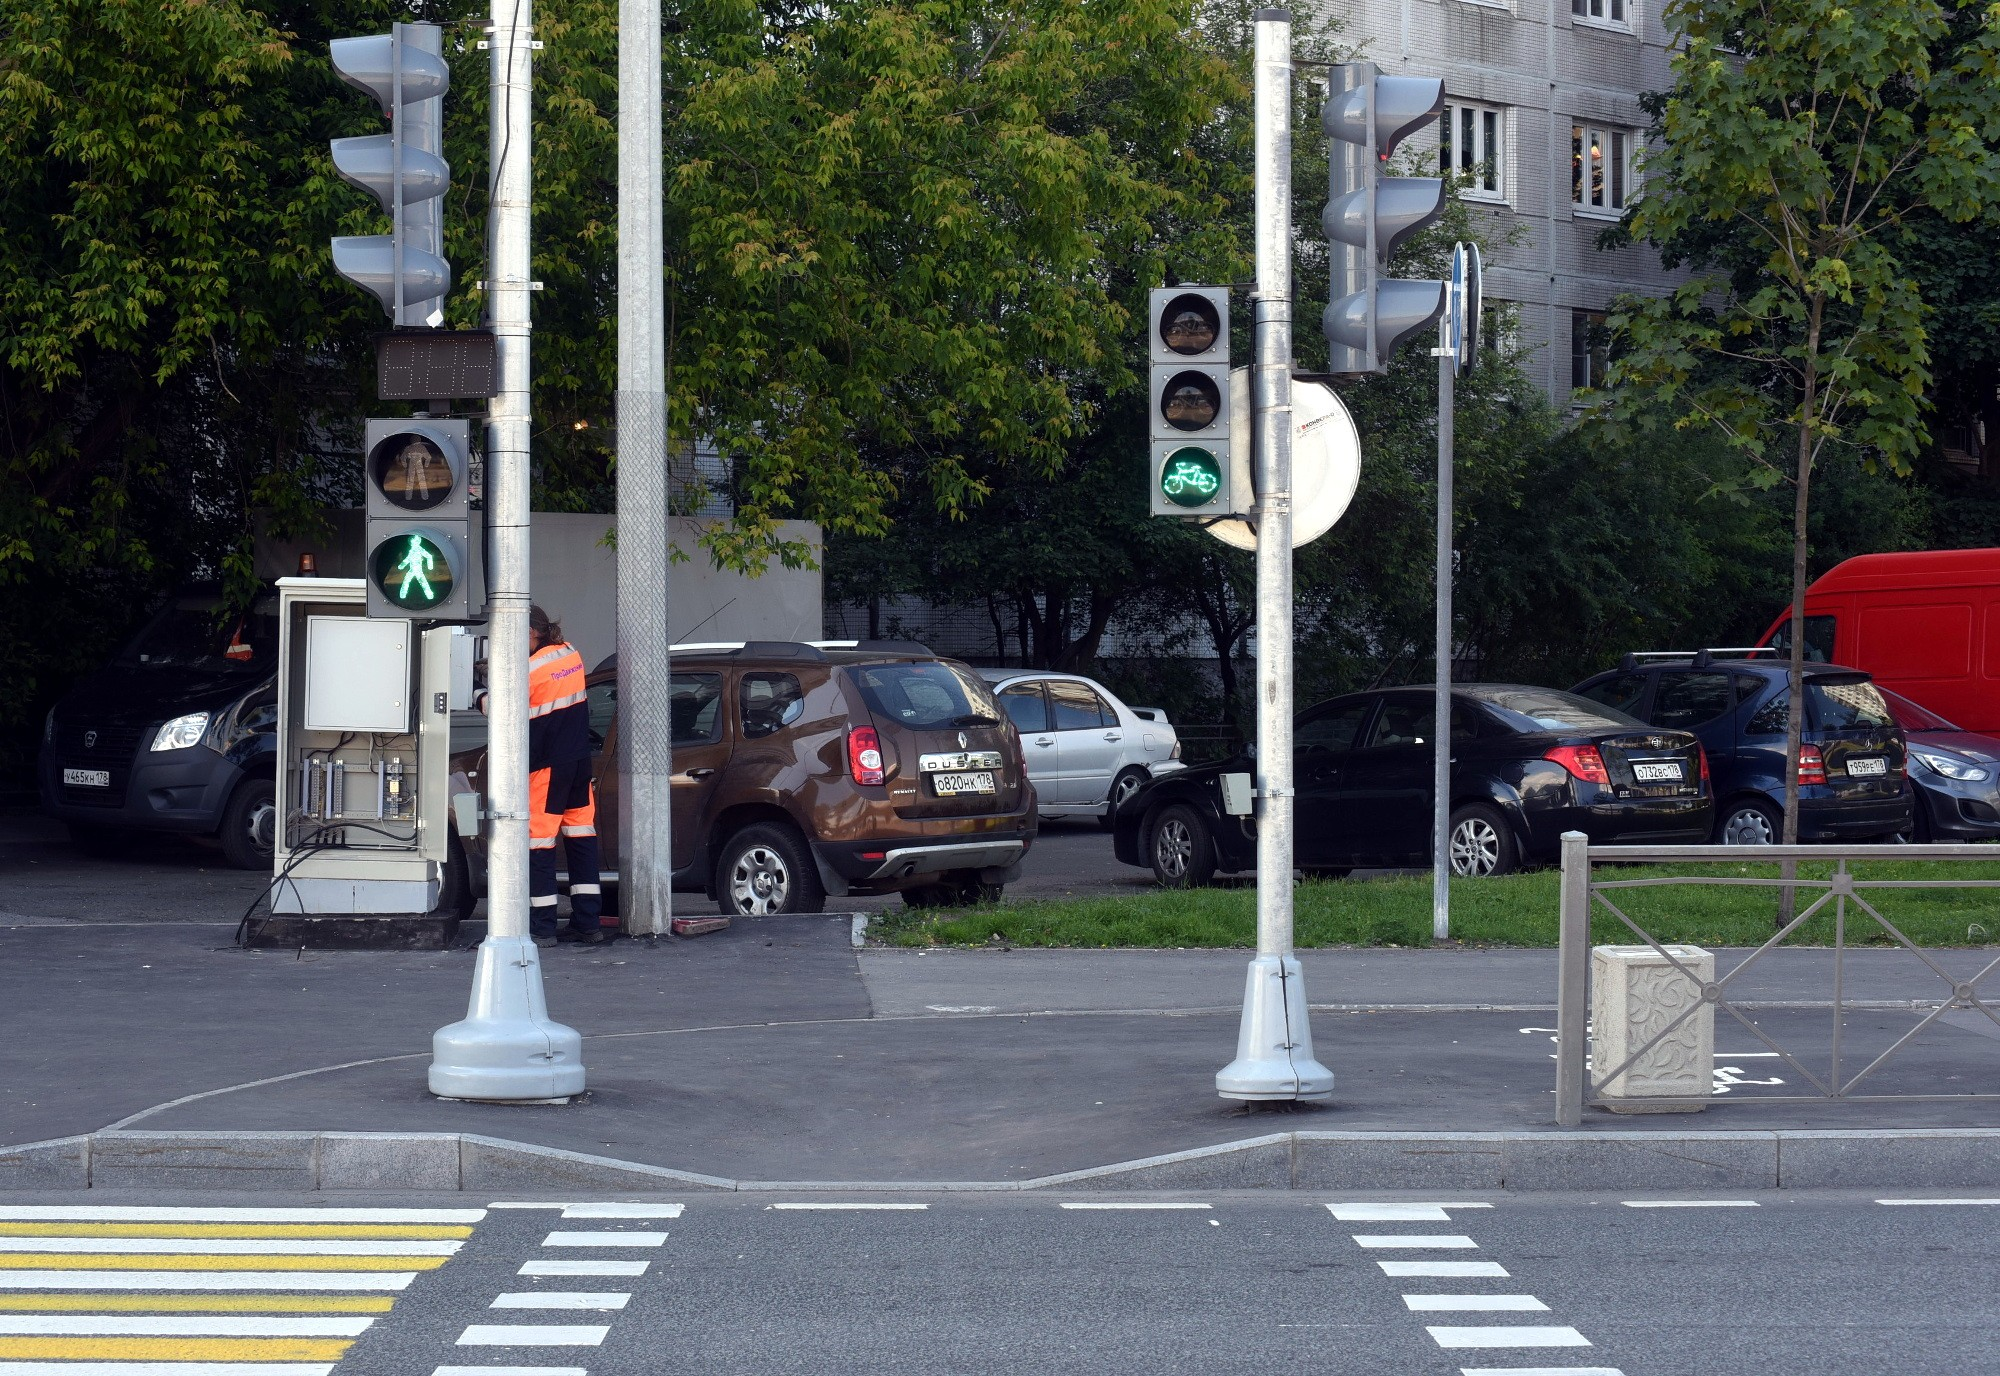tl: (1299, 59, 1441, 379), (321, 11, 454, 325), (354, 426, 491, 619), (1143, 292, 1229, 503)
